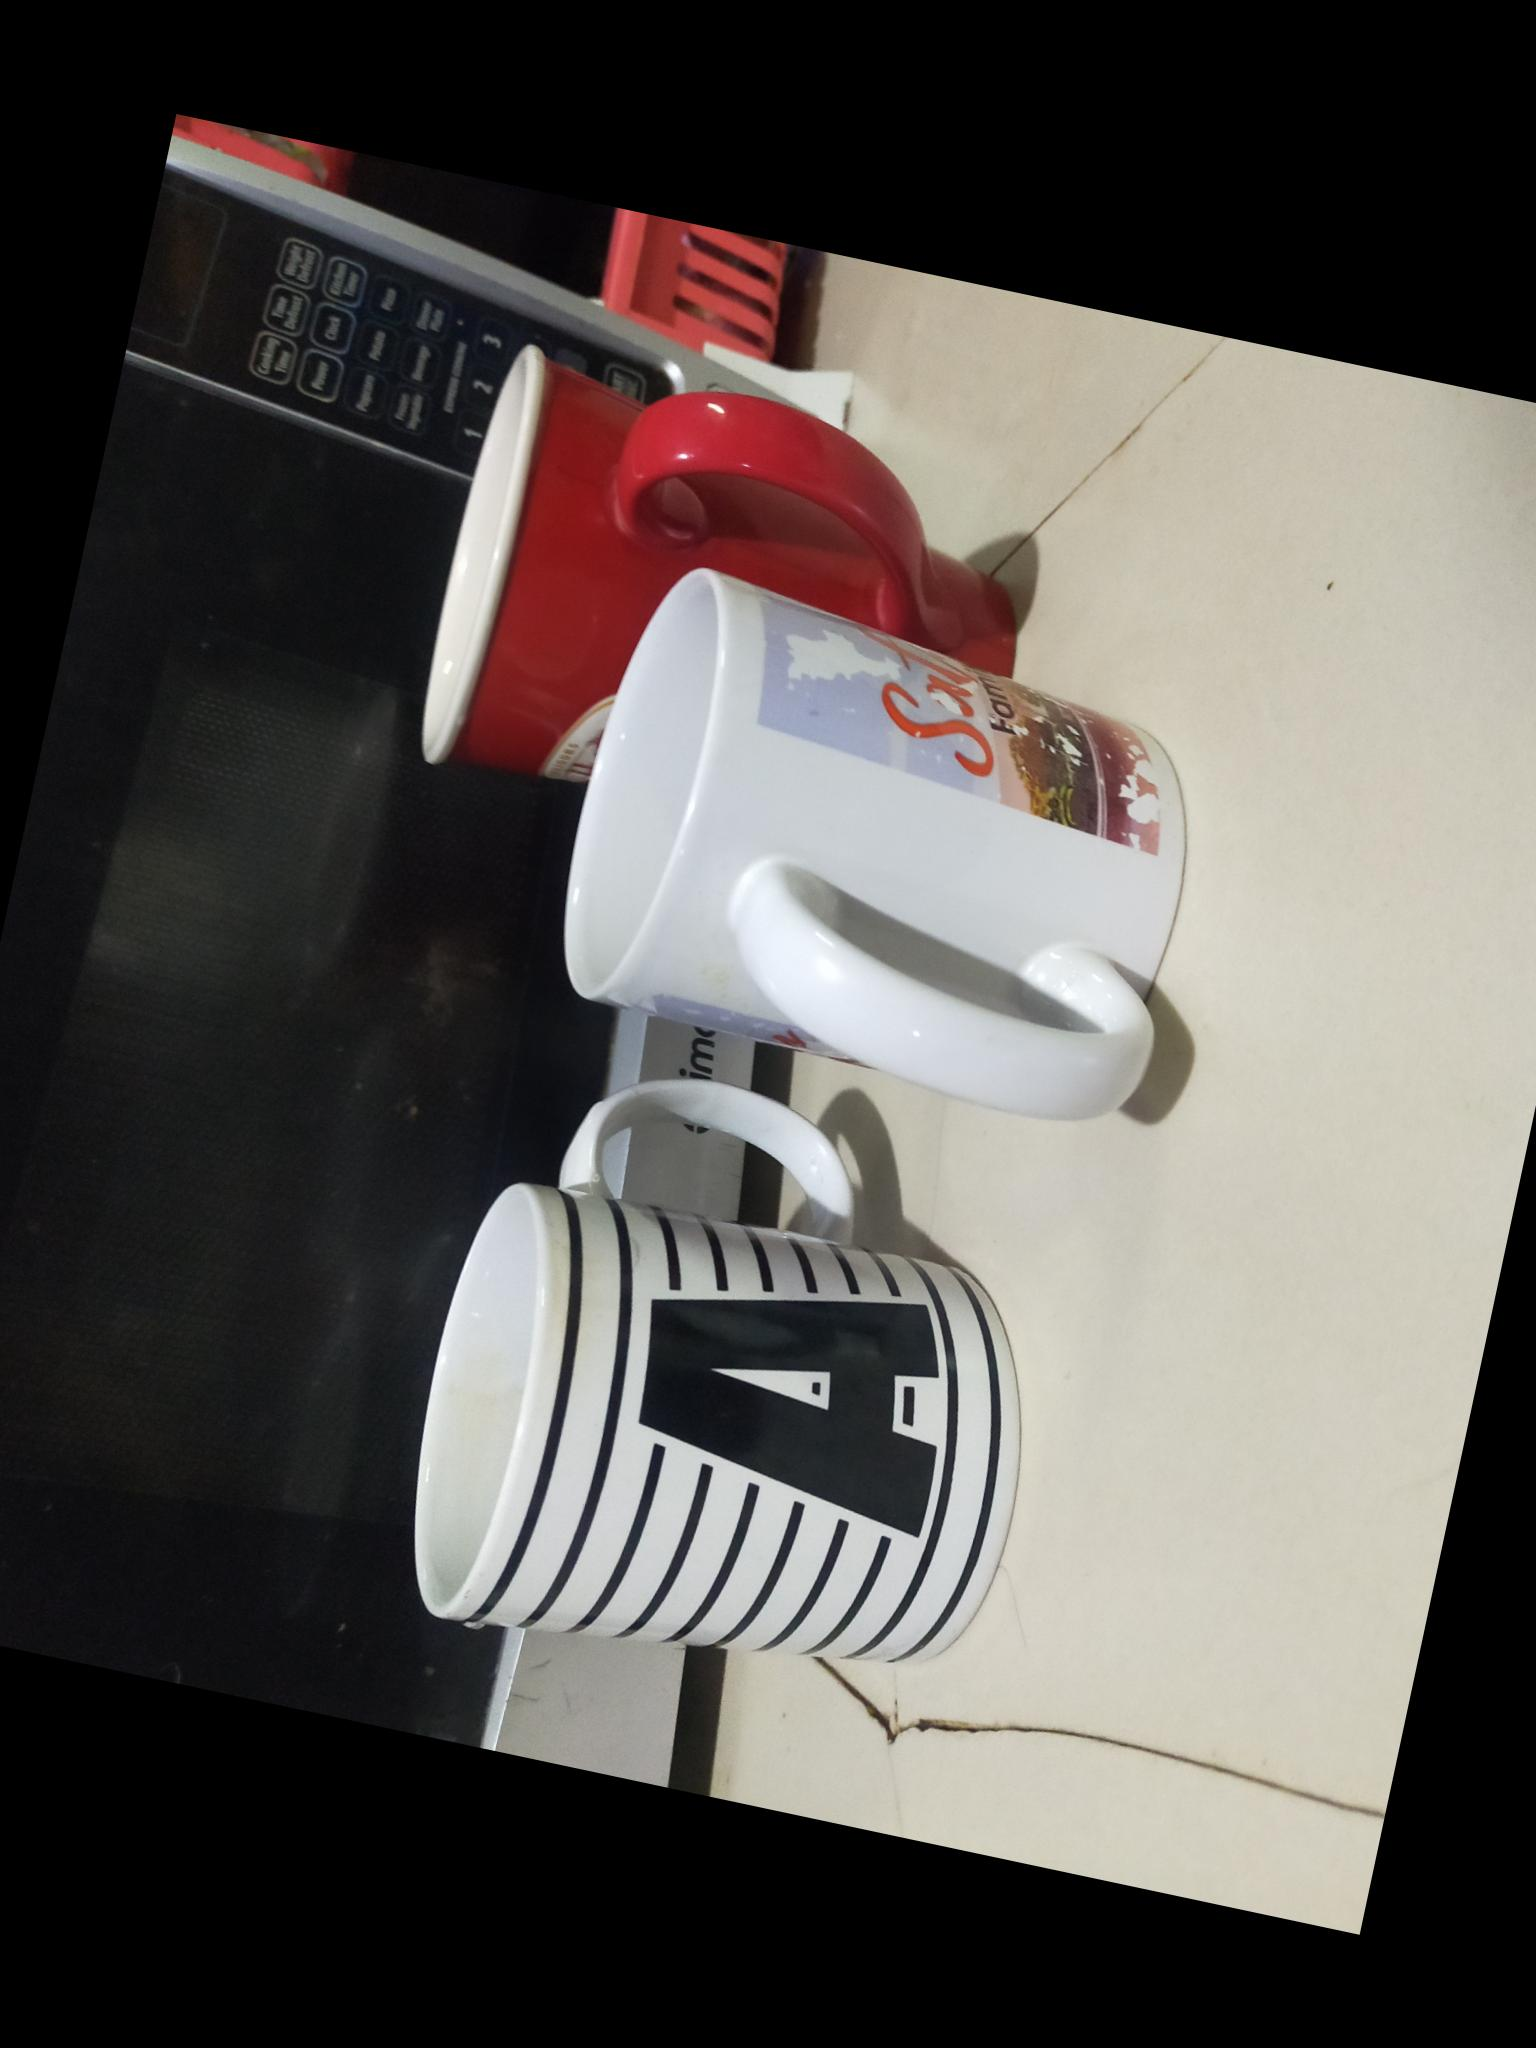Coffee Mug: (389, 1042, 1086, 1725), (537, 552, 1228, 1132), (416, 335, 1057, 874)
